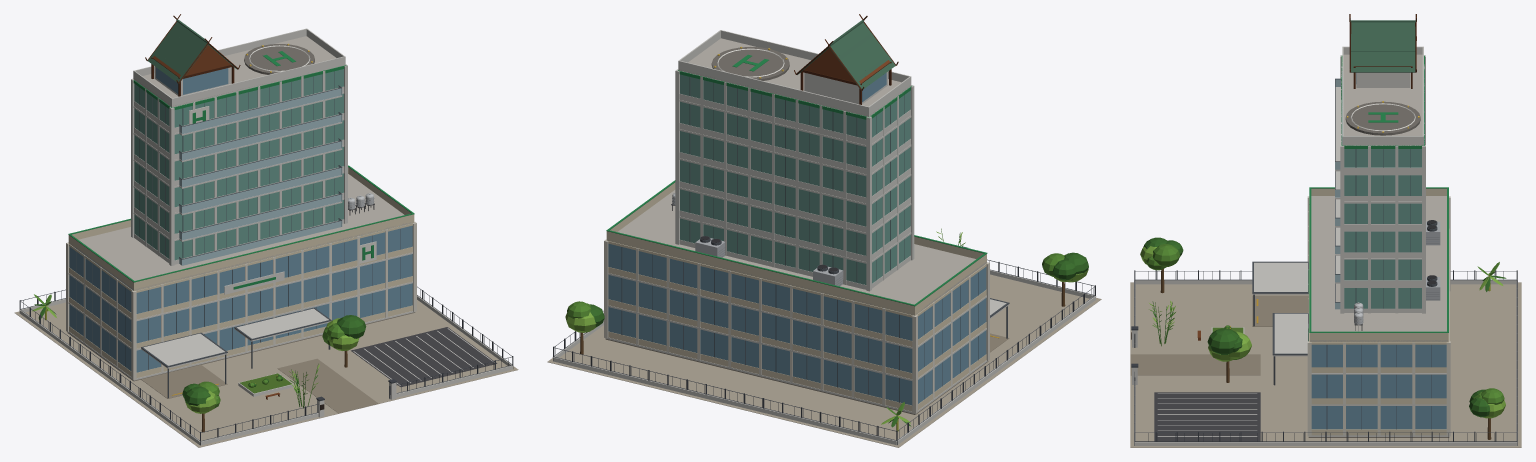
Rendered from hospital.glb.
3 views of the same model, side by side, from view 1: azimuth 30°, elevation 25°; view 2: azimuth 150°, elevation 25°; view 3: azimuth 270°, elevation 25° (orthographic). The views are drawn at different scales.
Parts seen in each view (by area): view 1: body; view 2: body; view 3: body.
Part boxes in pixels (x1,y1,x2,y2): body: (14,14,518,447); body: (547,14,1101,447); body: (1130,14,1521,447).
Size of the model in its own units: 47.9 by 43.99 by 47.9.
